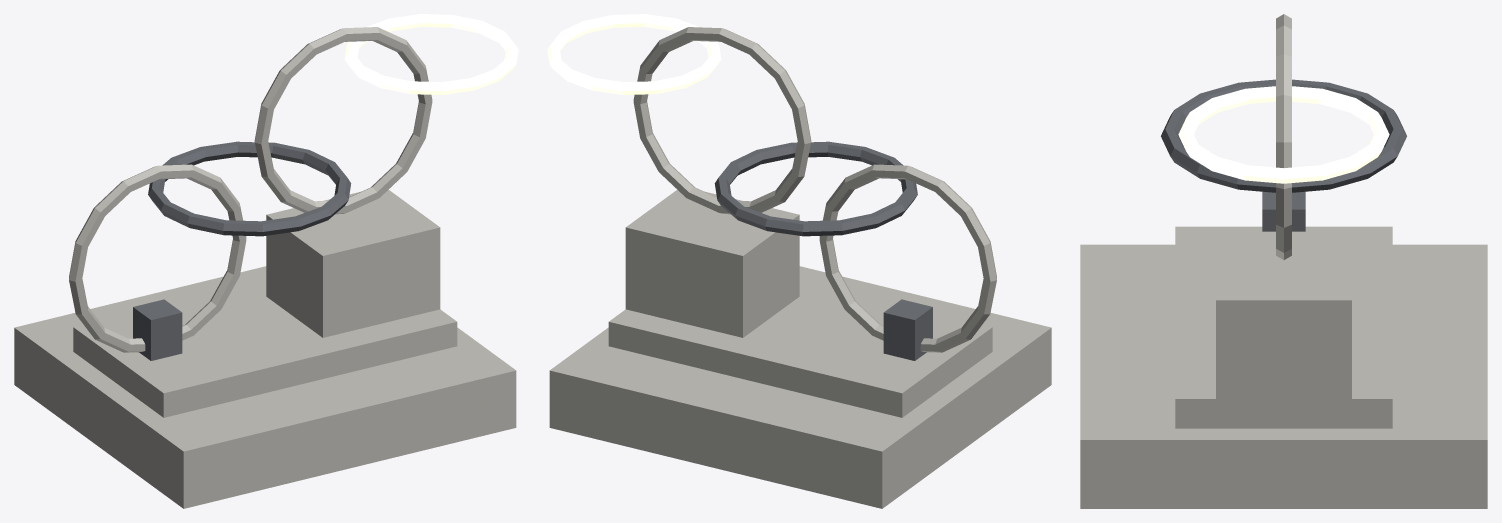
File: LM16_CausalChain.glb
The picture shows the model from 3 angles, left to right: view 1: azimuth 30°, elevation 25°; view 2: azimuth 150°, elevation 25°; view 3: azimuth 270°, elevation 25°; orthographic projection. The views are drawn at different scales.
Visible parts, largest first — view 1: Base.002, Ridge, Ridge2, Link2, Link0, Link1, Link3, PostA; view 2: Base.002, Ridge, Ridge2, Link2, Link0, Link1, Link3, PostA; view 3: Base.002, Ridge2, Ridge, Link3, Link1, Link2, PostA.
Boxes of the visible parts, x1,y1,x2,y2 form: Base.002: (14,266,516,508); Ridge: (73,280,457,417); Ridge2: (266,189,440,337); Link2: (254,27,432,214); Link0: (69,164,246,352); Link1: (148,141,351,236); Link3: (344,14,518,94); PostA: (133,299,182,360); Base.002: (549,266,1051,508); Ridge: (608,280,992,417); Ridge2: (625,189,799,337); Link2: (633,27,811,214); Link0: (819,164,996,352); Link1: (714,141,917,236); Link3: (547,14,721,94); PostA: (883,299,932,360); Base.002: (1080,244,1487,508); Ridge2: (1216,231,1351,423); Ridge: (1175,226,1392,428); Link3: (1178,86,1389,183); Link1: (1161,79,1406,192); Link2: (1276,14,1291,259); PostA: (1262,191,1305,231).
Size of the model in its own units: 2.24 by 1.75 by 1.5.
